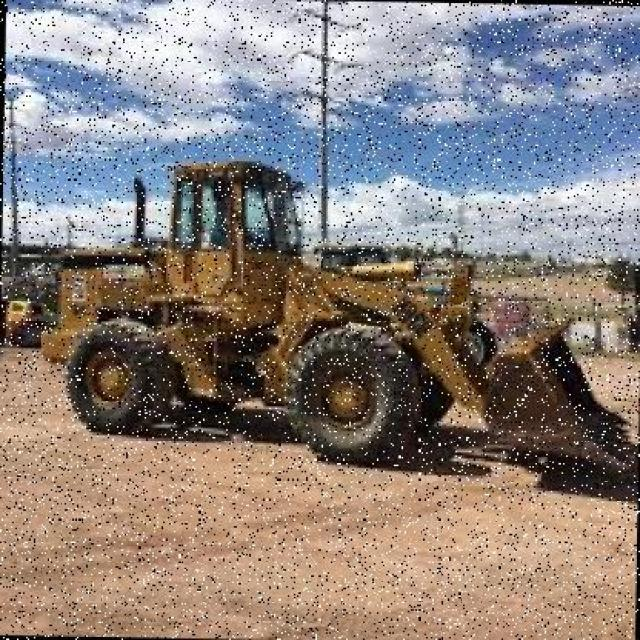buldozerpayloadergrader: (32, 149, 640, 482)
